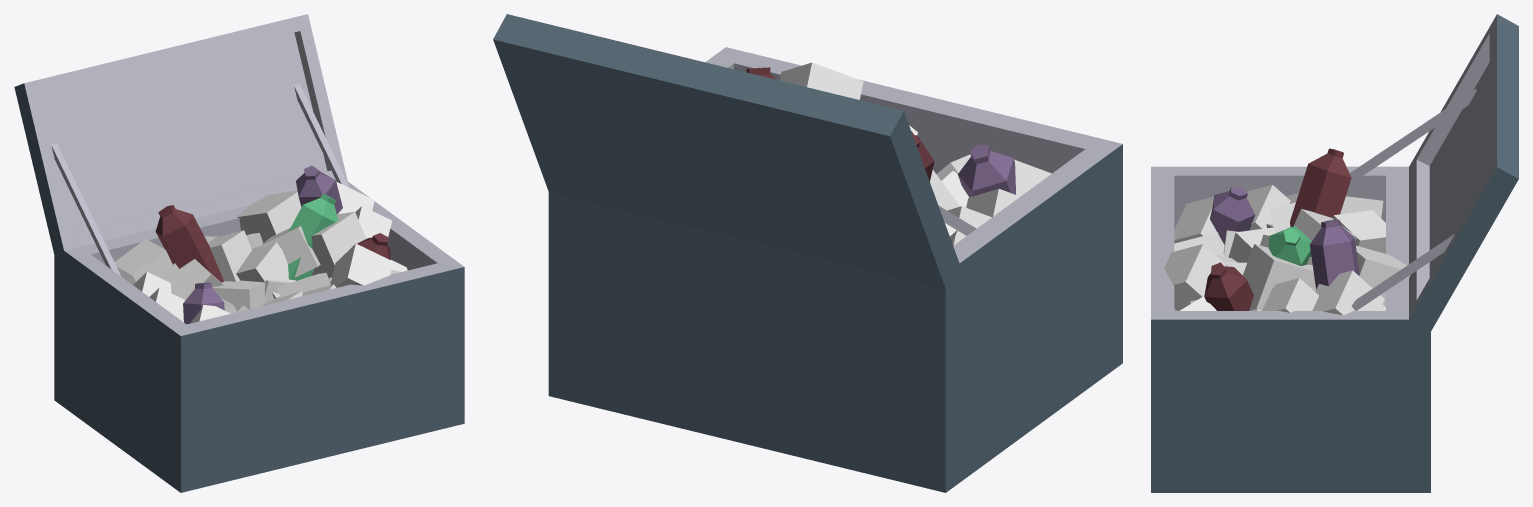
The model's file is cooler01.fbx.
3 views of the same model, side by side, from view 1: azimuth 30°, elevation 25°; view 2: azimuth 150°, elevation 25°; view 3: azimuth 270°, elevation 25° (orthographic). The views are drawn at different scales.
Parts seen in each view (by area): view 1: pCube1, pCylinder1, pCube27, pCube6, pCube7, pCube29, pCylinder5, pCube32, pCube28, pCube3, pCube5, pCube30 (+10 smaller); view 2: pCube1, pCylinder3, pCube7, pCube14, pCube15; view 3: pCube1, pCylinder1, pCylinder4, pCube7, pCube6, pCube9, pCylinder2, pCylinder3, pCube3, pCube31, pCube8, pCube15 (+9 smaller).
Boxes of the visible parts, box(x1,y1,x2,y2) form: pCube1: box(14, 14, 464, 492); pCylinder1: box(155, 205, 223, 282); pCube27: box(237, 190, 301, 243); pCube6: box(311, 211, 366, 282); pCube7: box(330, 243, 393, 287); pCube29: box(236, 242, 295, 298); pCylinder5: box(288, 193, 338, 280); pCube32: box(114, 239, 172, 284); pCube28: box(208, 230, 251, 281); pCube3: box(51, 143, 121, 276); pCube5: box(261, 226, 320, 277); pCube30: box(161, 259, 223, 299); pCube1: box(493, 14, 1122, 492); pCylinder3: box(957, 144, 1015, 197); pCube7: box(779, 62, 863, 99); pCube14: box(966, 188, 1020, 217); pCube15: box(1014, 159, 1051, 196); pCube1: box(1151, 14, 1518, 492); pCylinder1: box(1290, 148, 1351, 226); pCylinder4: box(1310, 219, 1359, 289); pCube7: box(1164, 244, 1227, 310); pCube6: box(1242, 244, 1315, 310); pCube9: box(1312, 270, 1384, 315); pCylinder2: box(1204, 262, 1253, 310); pCylinder3: box(1210, 187, 1255, 244); pCube3: box(1349, 88, 1476, 184); pCube31: box(1332, 210, 1385, 253); pCube8: box(1262, 278, 1318, 312); pCube15: box(1174, 196, 1224, 252).
Size of the model in its own units: 1.89 by 1.88 by 1.92.
